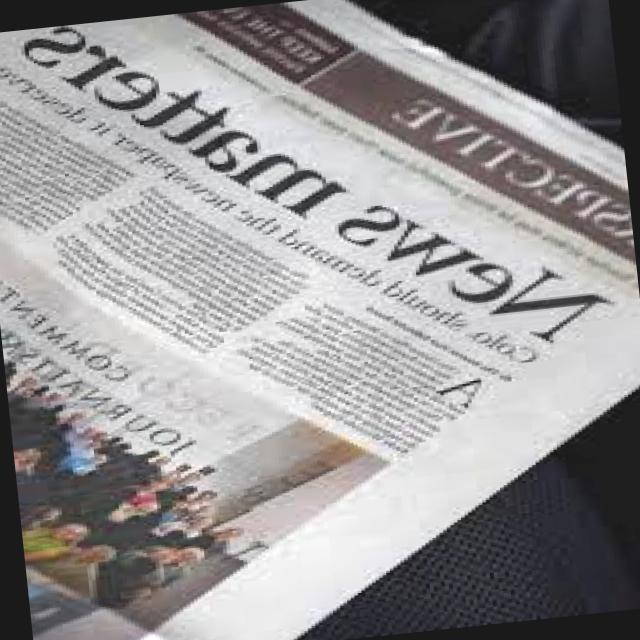paper: (0, 0, 640, 415), (27, 349, 450, 640)
